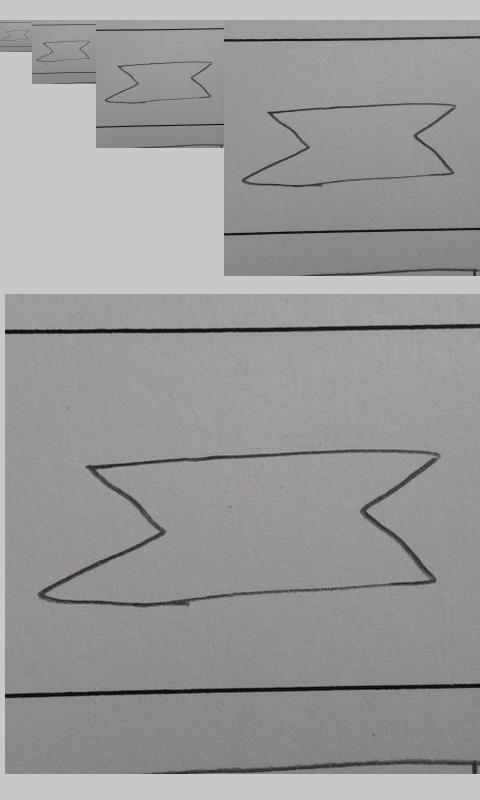edit_text: (36, 448, 442, 608), (243, 102, 456, 188), (103, 60, 213, 105), (36, 40, 90, 62), (1, 29, 30, 41)
